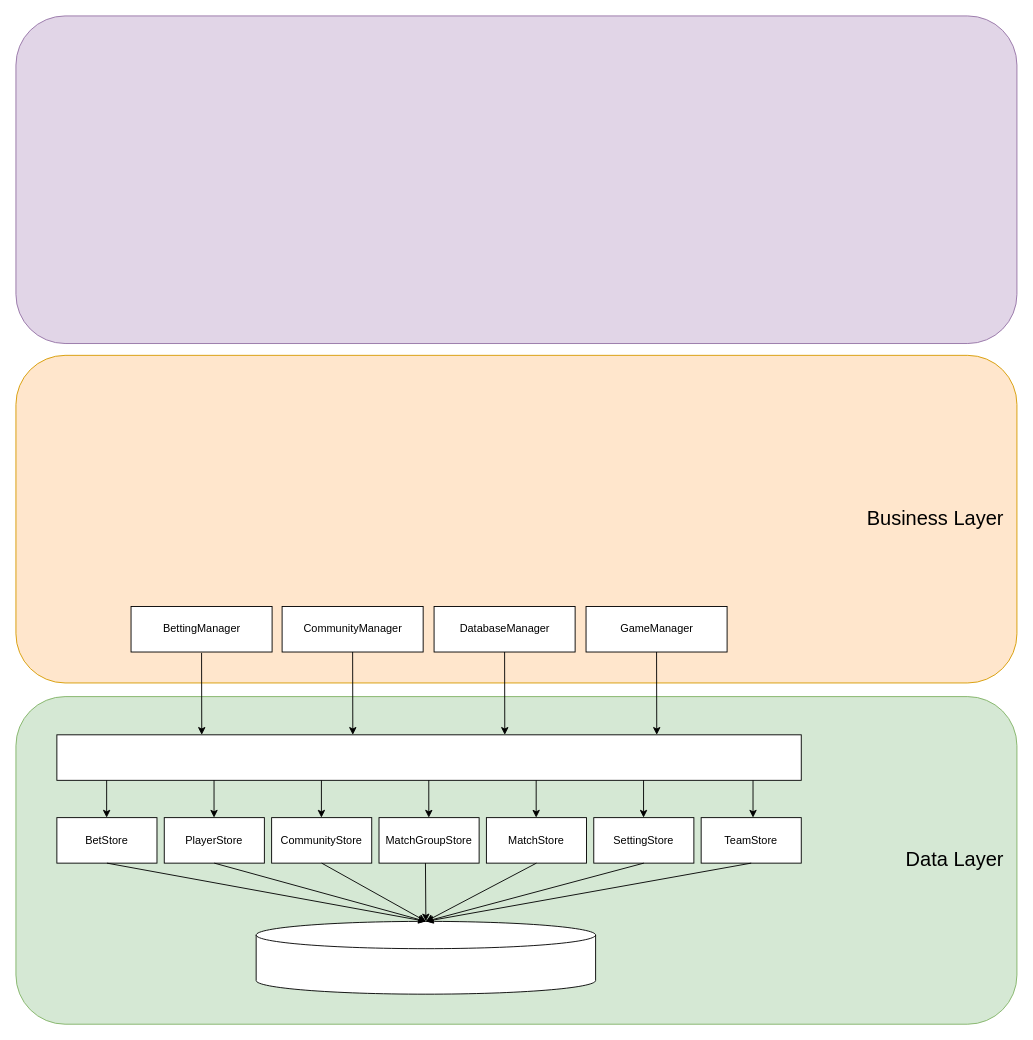
Image size: 1033x1040. Some labels were removed from this diagram. Each missing label, with the centre of its shape:
"DataStoreManager" belongs at (x=428, y=757).
"Presentation Layer" belongs at (x=516, y=179).
"SQL Database" belongs at (x=425, y=957).
